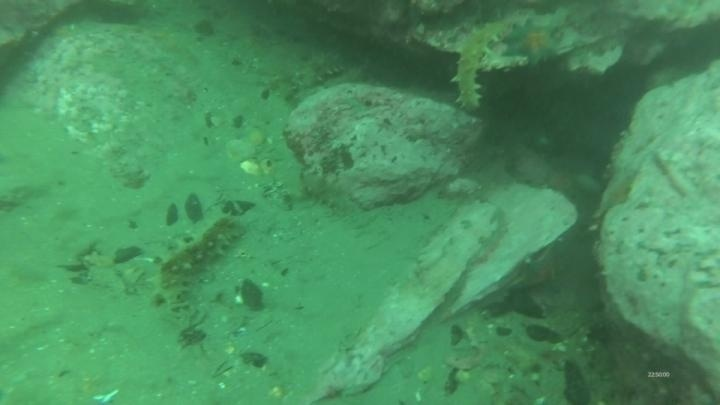holothurian: (152, 214, 247, 310), (448, 15, 515, 117), (283, 49, 348, 97), (295, 170, 357, 214)
starfish: (500, 18, 564, 68), (595, 165, 641, 219)
